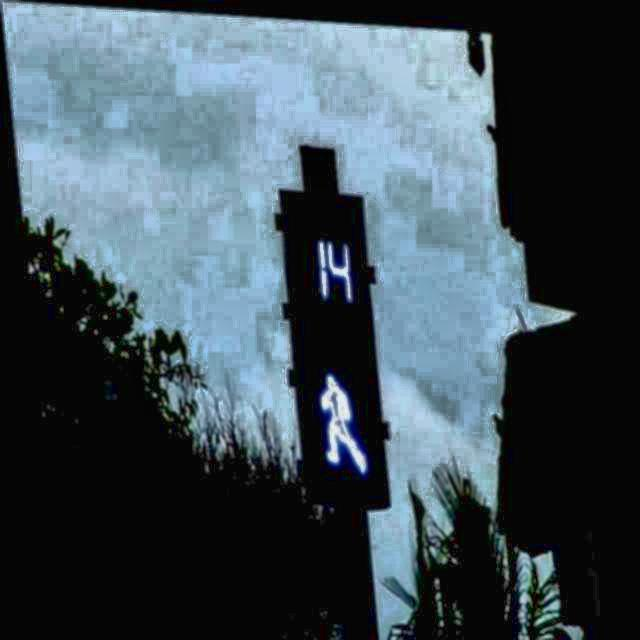semaforo pedestre: (182, 118, 485, 592)
